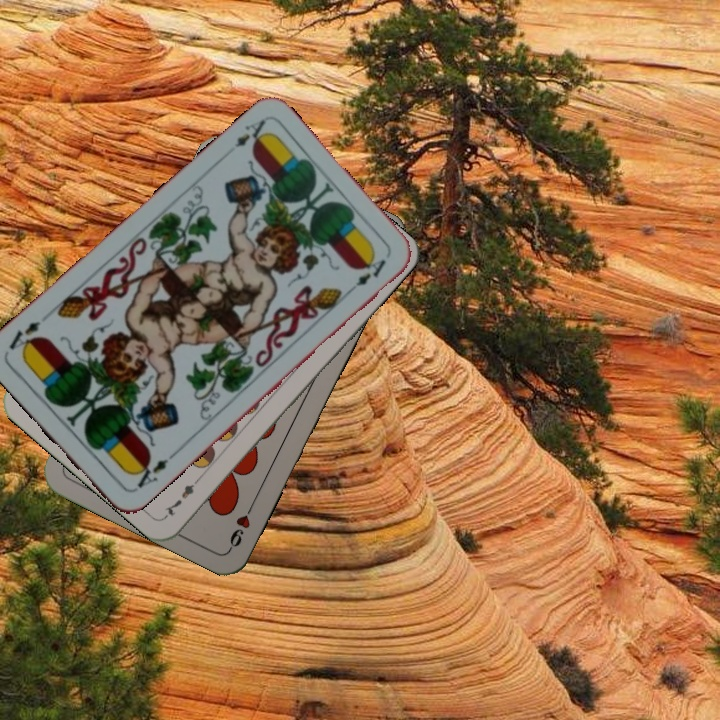E7: (161, 471, 205, 520)
EA: (129, 453, 171, 494), (231, 115, 273, 150)
H9: (225, 496, 258, 552)
